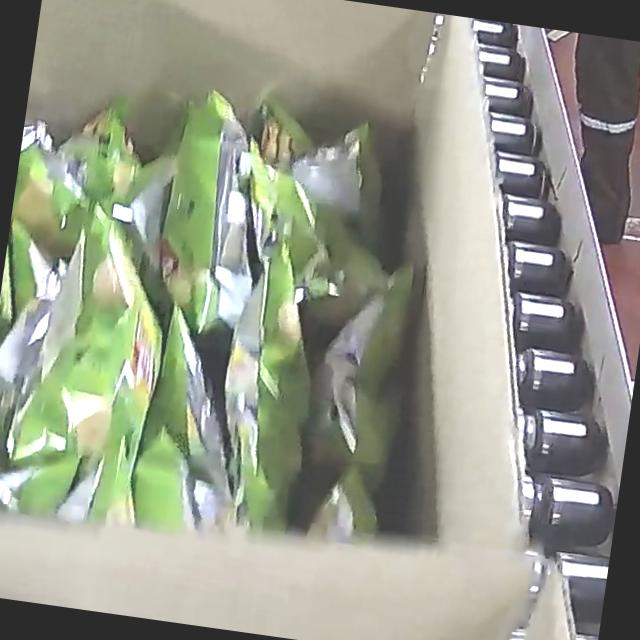yogurt: (0, 59, 431, 562)
